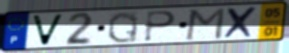2: (65, 11, 95, 48)
M: (184, 6, 228, 41)
P: (142, 10, 178, 43)
Q: (106, 10, 140, 44)
V: (30, 13, 66, 47)
X: (222, 5, 261, 40)
